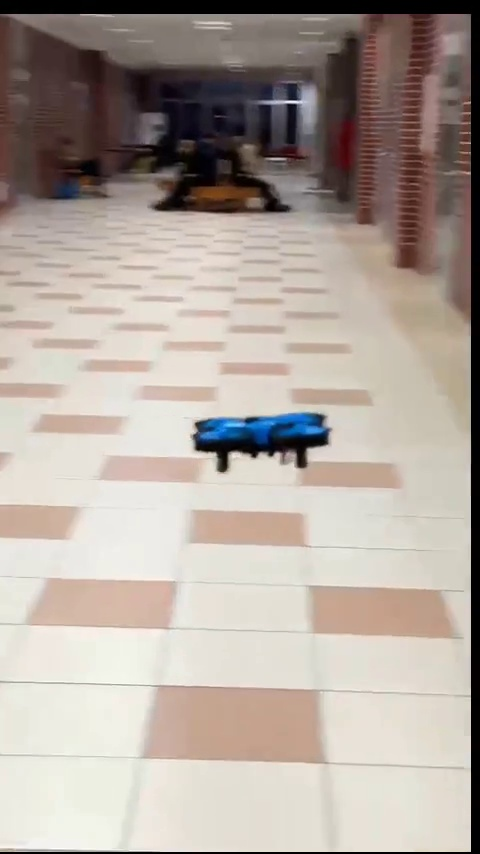drone: (193, 410, 335, 470)
